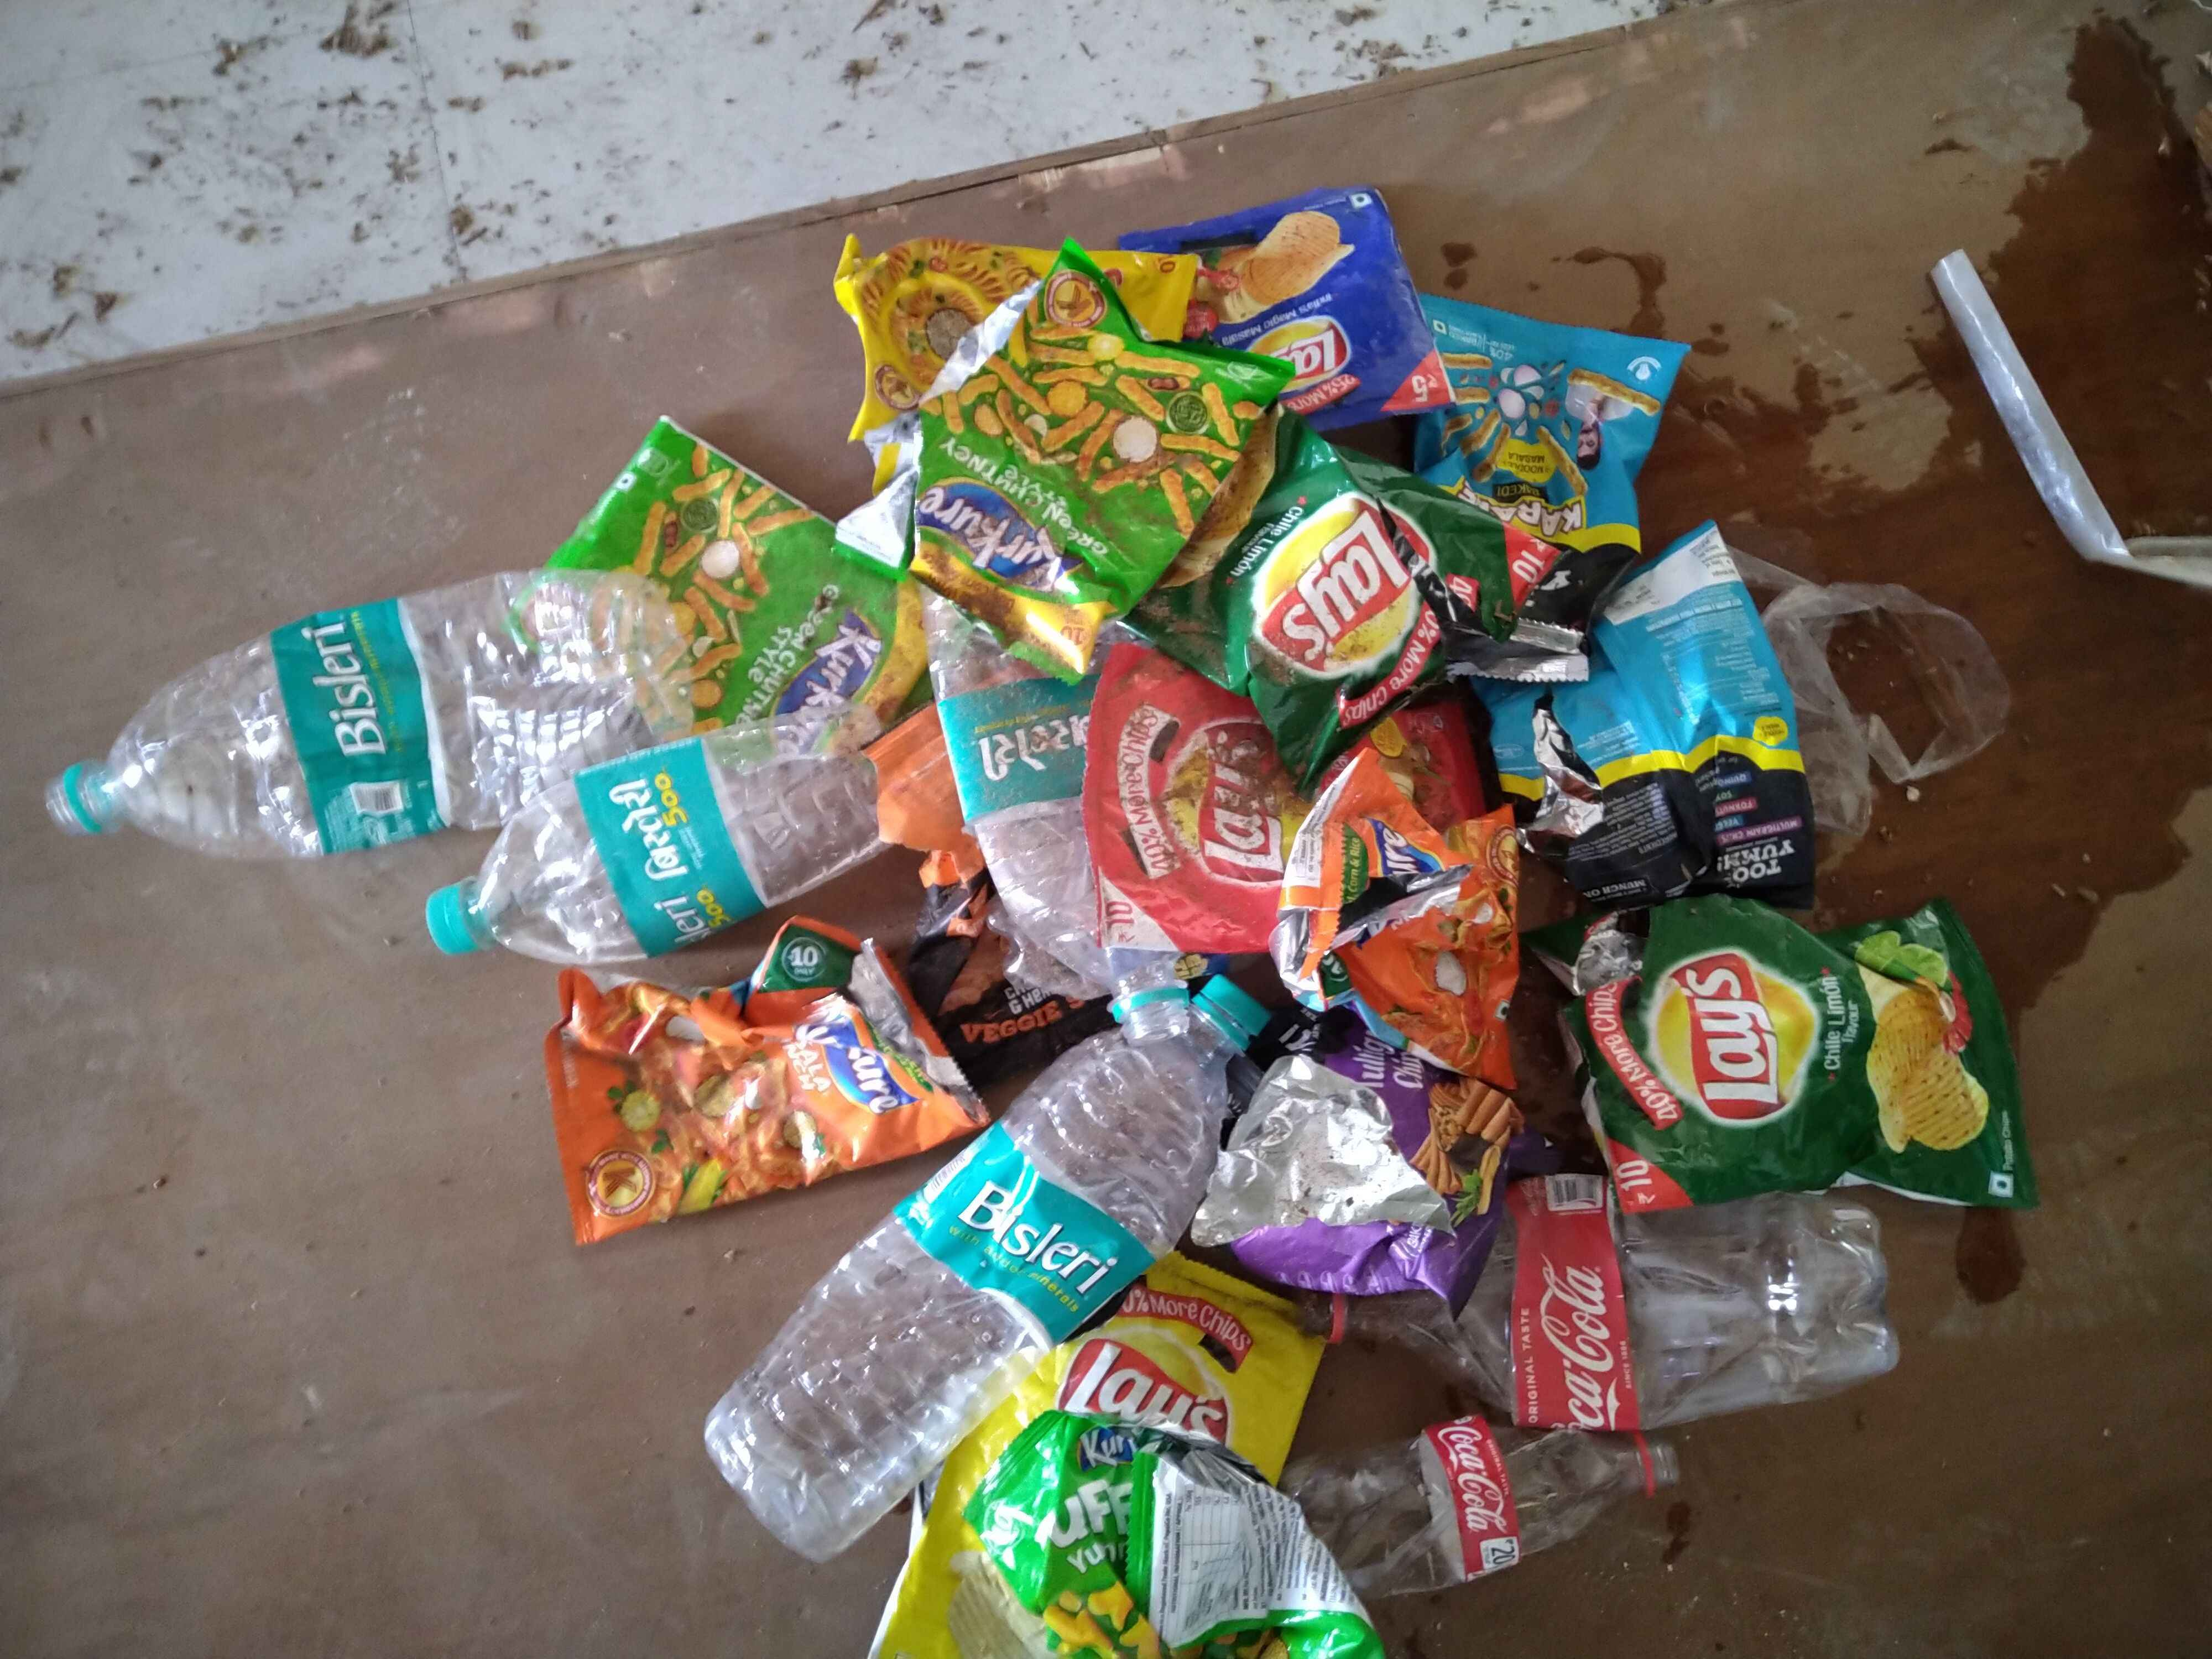Bisleri: (296, 606, 437, 817), (603, 765, 754, 943), (954, 1155, 1123, 1303), (970, 676, 1118, 810)
Coca-Cola: (1521, 1190, 1644, 1445), (1439, 1412, 1522, 1554)
Lays: (1247, 490, 1468, 690), (1644, 941, 1843, 1124), (1181, 697, 1329, 892), (1049, 1326, 1261, 1445), (1233, 310, 1378, 390)
kurkure: (902, 477, 1080, 601), (801, 976, 925, 1134), (1362, 805, 1496, 925), (782, 599, 887, 713), (1083, 1419, 1158, 1467)
tooyumm: (1707, 826, 1831, 884), (1282, 1014, 1355, 1079)
